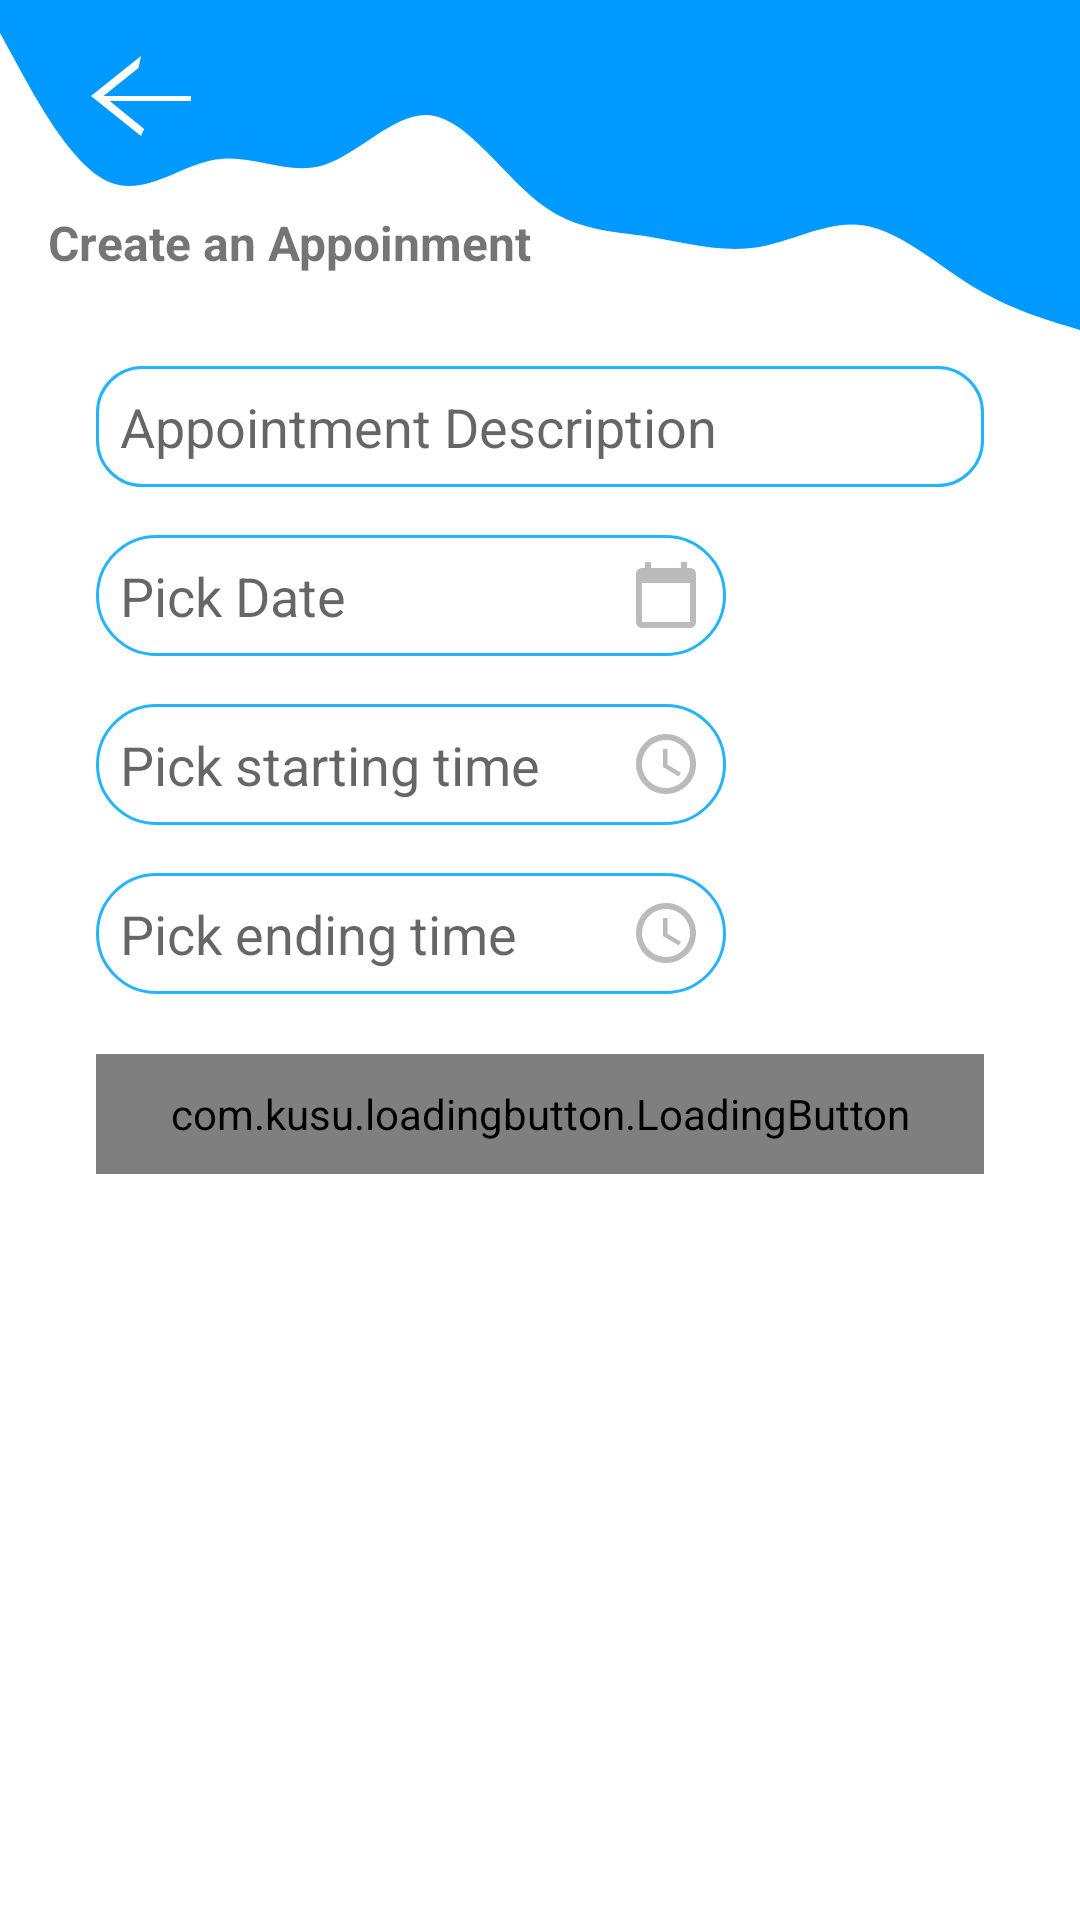

Named icons in this screenshot (1080px x 1920px) and their bounding boxes, bbox=(x1, y1, x2, y2):
back arrow: bbox=(48, 56, 234, 174)
